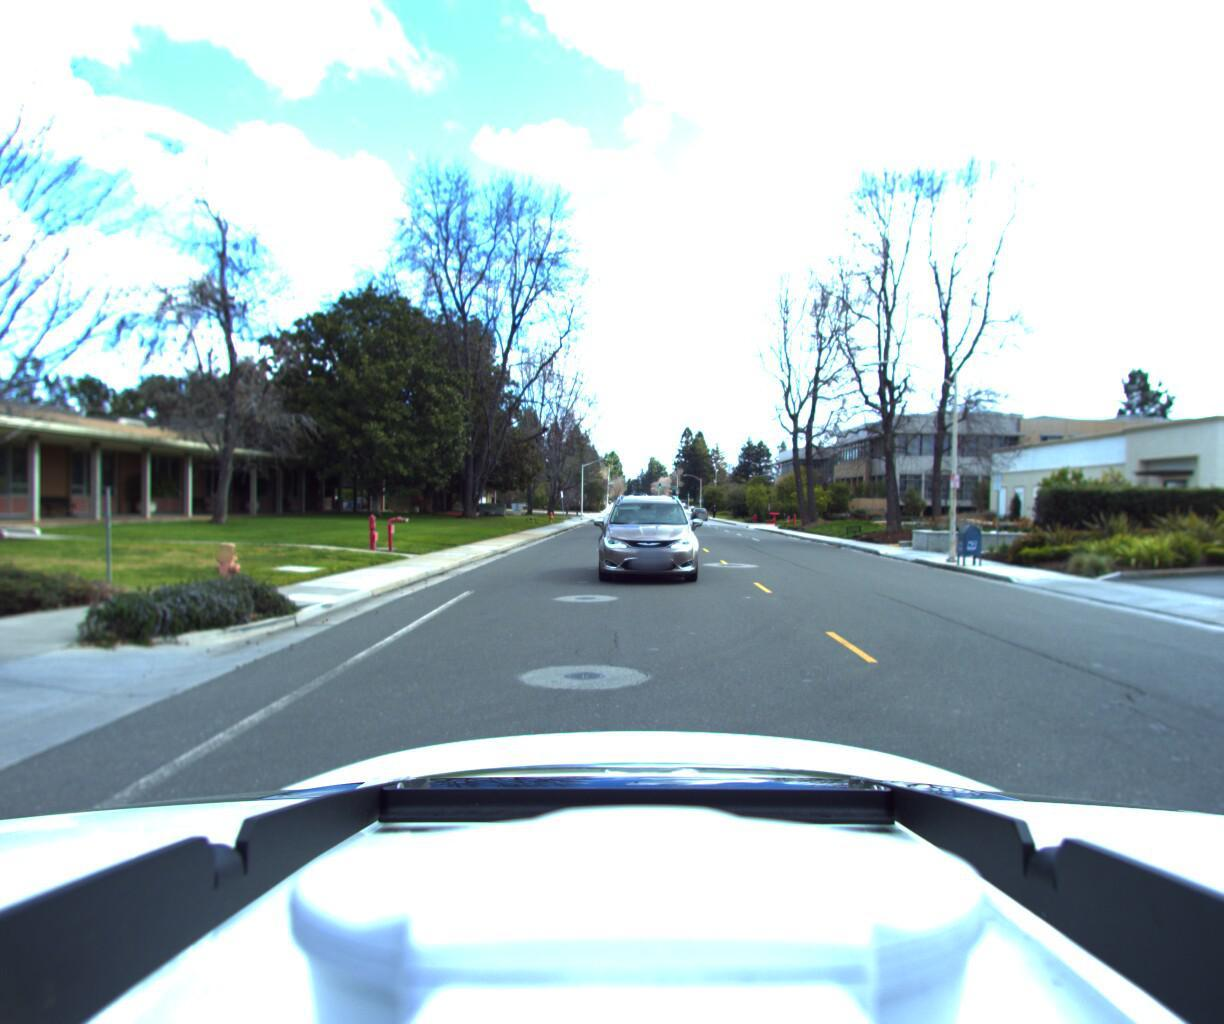car: (587, 493, 699, 595)
